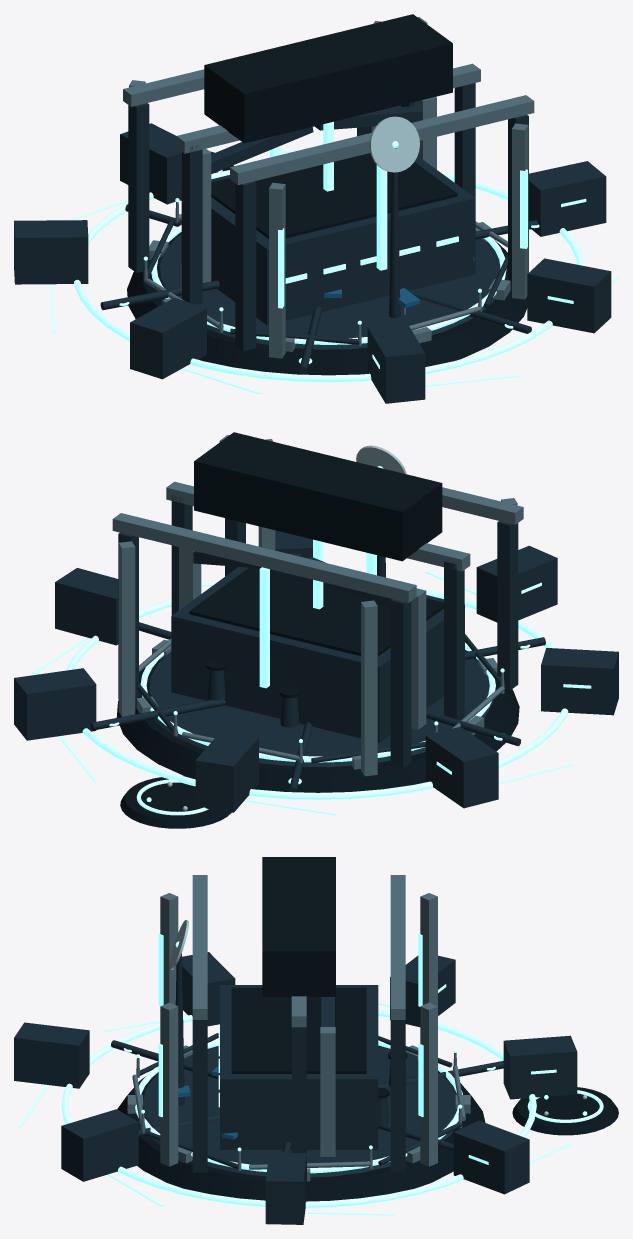
File: roboticsFactory-stage4.glb
3 views of the same model, one above another, from view 1: azimuth 30°, elevation 25°; view 2: azimuth 150°, elevation 25°; view 3: azimuth 270°, elevation 25° (orthographic). The views are drawn at different scales.
Parts seen in each view (by area): view 1: orbital-assembly-hall, assembly-hall, factory-roof, upper-deck, armored-foundation, assembly-gantry-2.75, industrial-annex-0, industrial-annex-2, industrial-annex-3, industrial-annex-6, district-grid-3, industrial-annex-1 (+22 smaller); view 2: orbital-assembly-hall, assembly-hall, factory-roof, upper-deck, armored-foundation, assembly-gantry--2.75, industrial-annex-5, industrial-annex-2, industrial-annex-3, industrial-annex-4, district-grid-3, industrial-annex-6 (+20 smaller); view 3: assembly-hall, orbital-assembly-hall, factory-roof, armored-foundation, upper-deck, industrial-annex-0, industrial-annex-1, industrial-annex-5, industrial-annex-4, district-grid-3, landing-pad, industrial-annex-6 (+17 smaller).
Boxes of the visible parts, x1,y1,x2,y2 form: orbital-assembly-hall: (204,14,452,143); assembly-hall: (181,156,475,325); factory-roof: (211,153,457,238); upper-deck: (156,234,504,349); armored-foundation: (127,232,527,375); assembly-gantry-2.75: (230,95,534,185); industrial-annex-0: (527,258,611,333); industrial-annex-2: (130,298,206,379); industrial-annex-3: (14,220,88,284); industrial-annex-6: (529,161,606,236); district-grid-3: (74,170,584,382); industrial-annex-1: (367,323,425,403); orbital-assembly-hall: (194,432,442,561); assembly-hall: (171,567,464,742); factory-roof: (189,567,443,656); upper-deck: (142,652,493,767); armored-foundation: (116,650,519,792); assembly-gantry--2.75: (112,513,416,602); industrial-annex-5: (14,668,96,740); industrial-annex-2: (541,648,618,715); industrial-annex-3: (425,726,498,808); industrial-annex-4: (195,731,258,812); district-grid-3: (66,588,568,799); industrial-annex-6: (55,568,118,645); assembly-hall: (220,985,378,1149); orbital-assembly-hall: (262,857,335,996); factory-roof: (231,987,366,1073); armored-foundation: (117,1045,485,1201); upper-deck: (136,1046,458,1177); industrial-annex-0: (61,1109,138,1181); industrial-annex-1: (14,1022,89,1088); industrial-annex-5: (453,1120,529,1194); industrial-annex-4: (503,1035,577,1099); district-grid-3: (61,1009,536,1207); landing-pad: (512,1087,618,1135); industrial-annex-6: (265,1152,306,1224).
Size of the model in its own units: 17.54 by 7.64 by 18.82.
